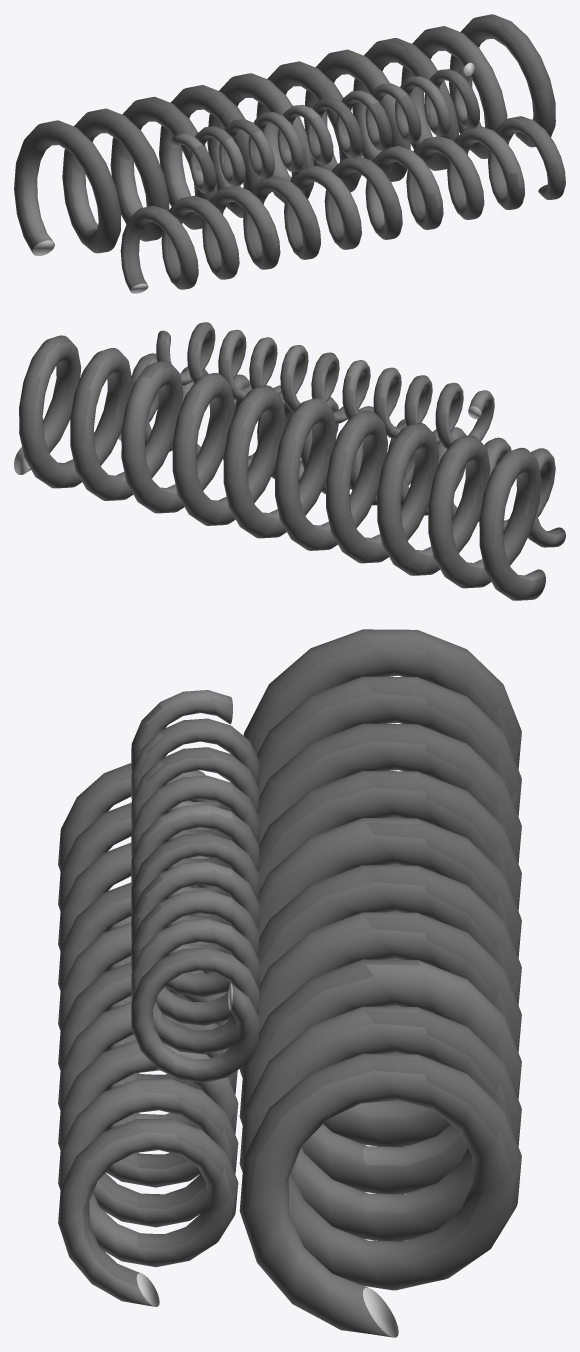
Rendered from SM_Int_Spring.fbx.
The picture shows the model from 3 angles, top to bottom: view 1: azimuth 30°, elevation 25°; view 2: azimuth 150°, elevation 25°; view 3: azimuth 270°, elevation 25°; orthographic projection. The views are drawn at different scales.
Visible parts, largest first — view 1: SM_Int_Spring; view 2: SM_Int_Spring; view 3: SM_Int_Spring.
Boxes of the visible parts, x1,y1,x2,y2 form: SM_Int_Spring: (14, 14, 565, 293); SM_Int_Spring: (14, 322, 565, 600); SM_Int_Spring: (58, 629, 521, 1337).
Size of the model in its own units: 1 by 0.26 by 0.4.
1 material, 1 textured.
